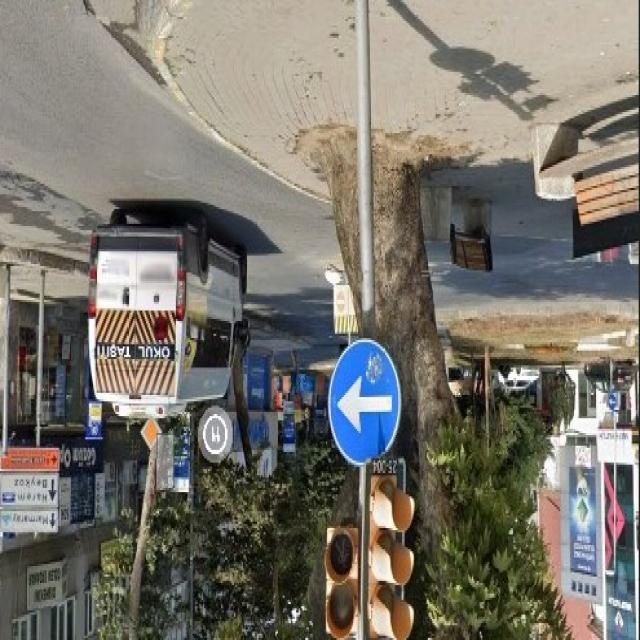Turn Left: (330, 337, 403, 466)
